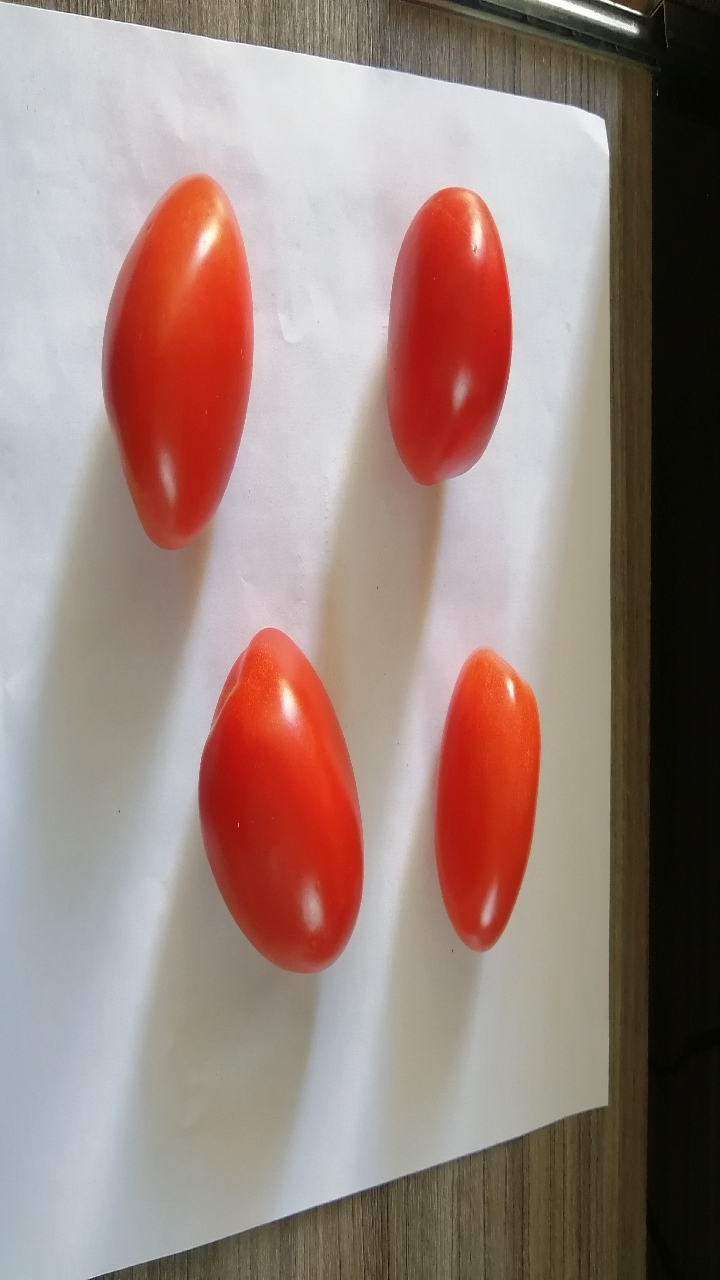tomateRojo: (169, 625, 408, 977), (80, 152, 280, 563), (351, 154, 563, 506), (428, 643, 549, 975)
